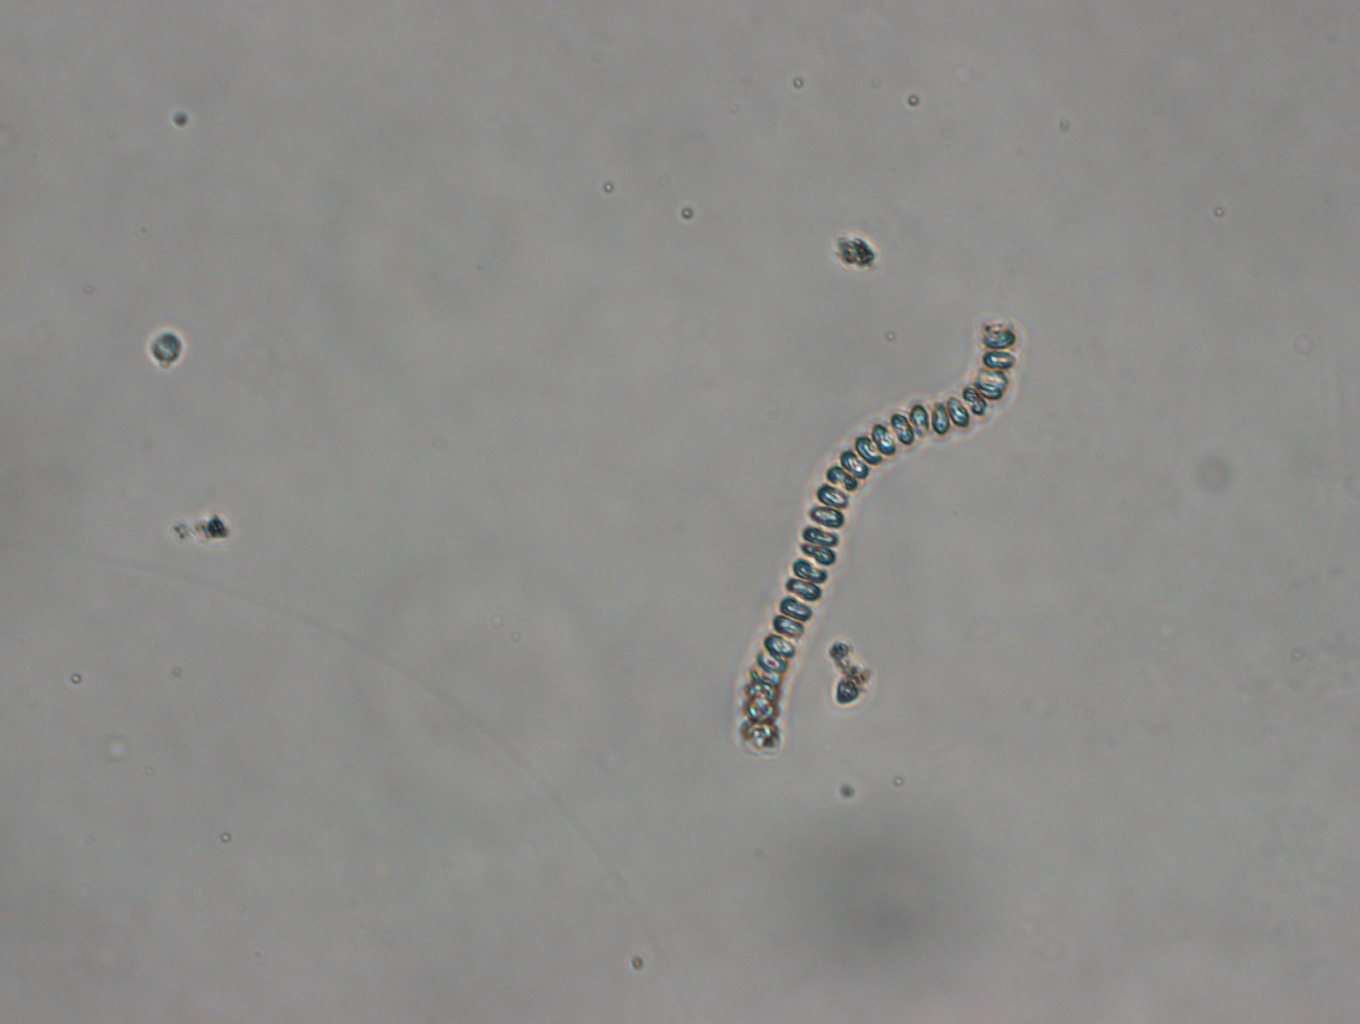skeletonema: (736, 315, 1019, 754)
